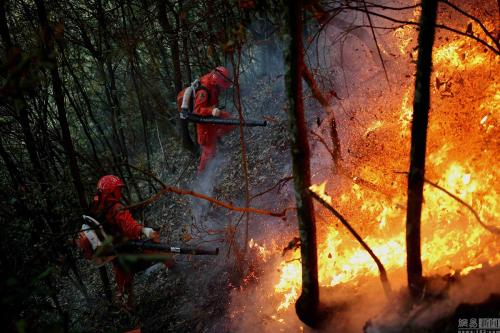fire: (425, 161, 498, 269), (281, 229, 409, 290)
smoke: (192, 157, 270, 245), (244, 55, 292, 156)
